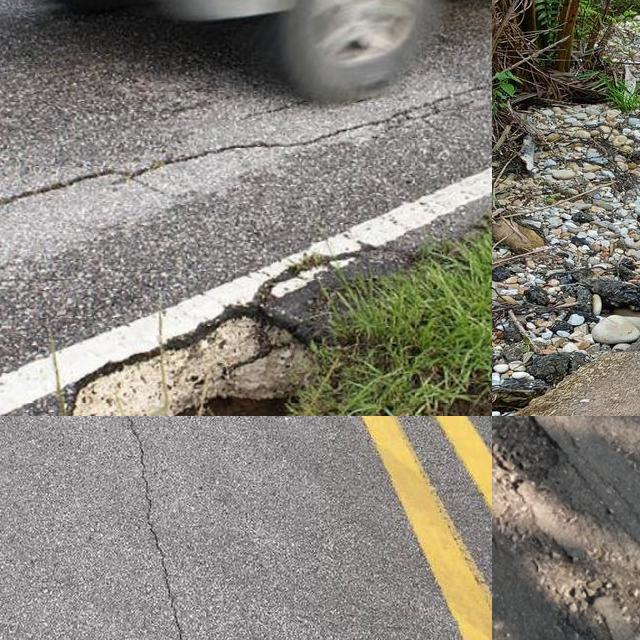Lubang: (492, 416, 559, 481)
Memanjang: (117, 416, 201, 640)
Pinggir: (56, 242, 488, 416), (492, 280, 640, 416)
